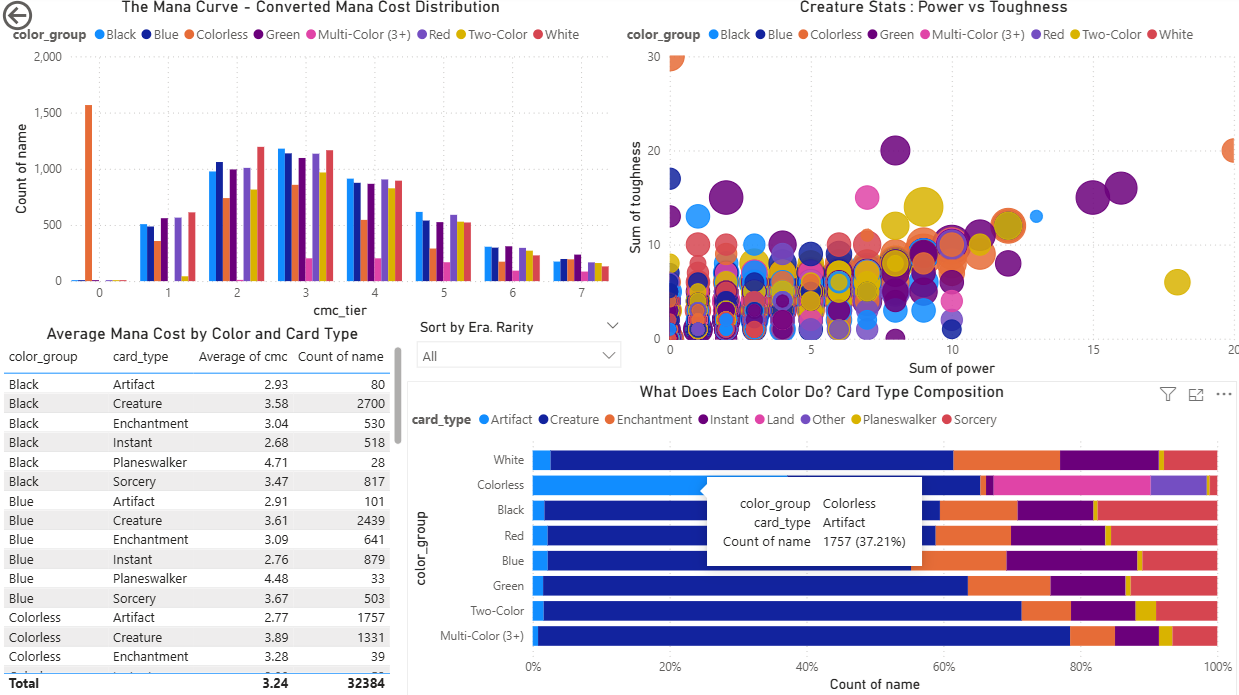

What the dashboard file says about the page in this screenshot:
{"tool":"powerbi","page":{"name":"Mana and Color","canvas":[1280,720],"ordinal":1},"visuals":[{"type":"clusteredColumnChart","title":"The Mana Curve - Converted Mana Cost Distribution","fields":{"Category":["mtg_powerbi_ready.cmc_tier"],"Y":["Count(mtg_powerbi_ready.name)"],"Series":["mtg_powerbi_ready.color_group"]},"box":[9.8,0,621.5,336],"z":0},{"type":"hundredPercentStackedBarChart","title":"What Does Each Color Do? Card Type Composition","fields":{"Category":["mtg_powerbi_ready.color_group"],"Y":["Count(mtg_powerbi_ready.name)"],"Series":["mtg_powerbi_ready.card_type"]},"box":[419.7,395.1,851.7,324.9],"z":1000},{"type":"tableEx","title":"Average Mana Cost by Color and Card Type","fields":{"Values":["mtg_powerbi_ready.color_group","mtg_powerbi_ready.card_type","Avg(mtg_powerbi_ready.cmc)","mtg_powerbi_ready.name"]},"box":[0,336,419.7,384],"z":2000},{"type":"actionButton","box":[0,0,100,40],"z":3000},{"type":"scatterChart","title":"Creature Stats : Power vs Toughness","fields":{"X":["Sum(mtg_powerbi_ready.power)"],"Y":["Sum(mtg_powerbi_ready.toughness)"],"Category":["mtg_powerbi_ready.name"],"Series":["mtg_powerbi_ready.color_group"],"Size":["Sum(mtg_powerbi_ready.cmc)"]},"box":[640,0,640,395.1],"z":4000},{"type":"slicer","fields":{"Values":["mtg_powerbi_ready.era","mtg_powerbi_ready.rarity"]},"box":[419.7,326.2,230.2,68.9],"z":5000}]}

Visuals, with their boxes on the page's 1280x720 design canvas (x1, y1, x2, y2). These are canvas units, not pixel positions in the 1239x695 screenshot, which may show the page scaled, cropped or inside an application window:
"The Mana Curve - Converted Mana Cost Distribution" clusteredColumnChart: BBox(10, 0, 631, 336)
"What Does Each Color Do? Card Type Composition" hundredPercentStackedBarChart: BBox(420, 395, 1271, 720)
"Average Mana Cost by Color and Card Type" tableEx: BBox(0, 336, 420, 720)
actionButton: BBox(0, 0, 100, 40)
"Creature Stats : Power vs Toughness" scatterChart: BBox(640, 0, 1280, 395)
slicer - mtg_powerbi_ready.era x mtg_powerbi_ready.rarity: BBox(420, 326, 650, 395)
